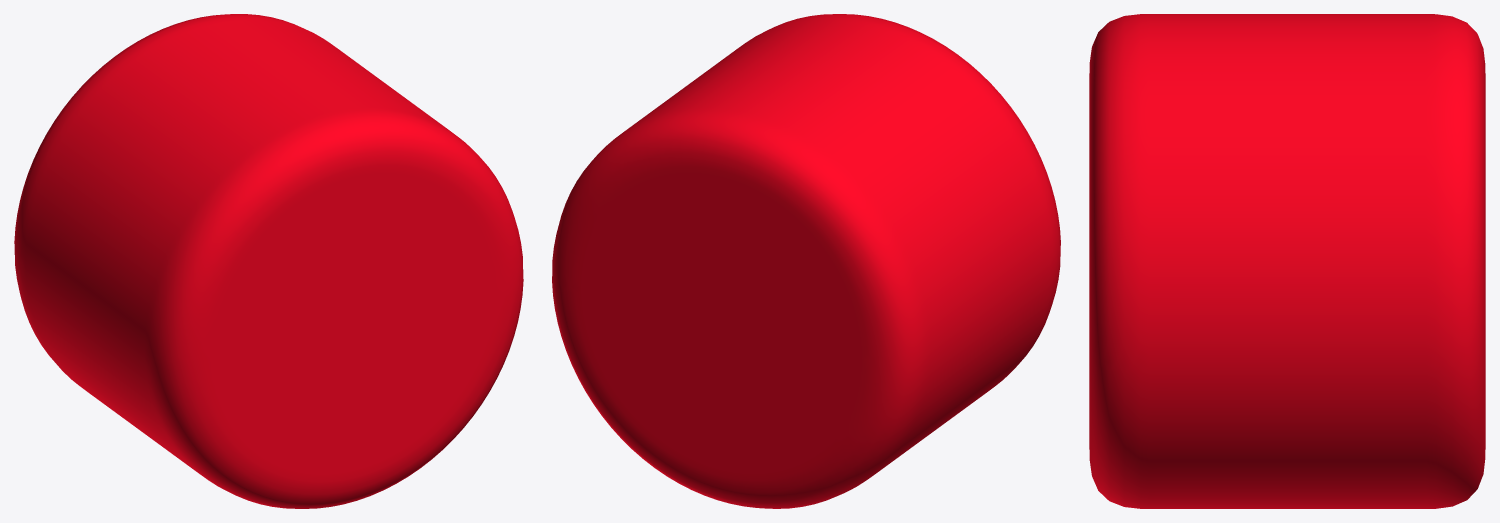
File: cylinder_render.glb
The picture shows the model from 3 angles, left to right: view 1: azimuth 30°, elevation 25°; view 2: azimuth 150°, elevation 25°; view 3: azimuth 270°, elevation 25°; orthographic projection. The views are drawn at different scales.
Visible parts, largest first — view 1: NAUO1.001; view 2: NAUO1.001; view 3: NAUO1.001.
Part boxes in pixels (x1,y1,x2,y2): NAUO1.001: (14, 14, 523, 508); NAUO1.001: (552, 14, 1060, 508); NAUO1.001: (1089, 14, 1485, 508).
Size of the model in its own units: 0.025 by 0.025 by 0.02.
